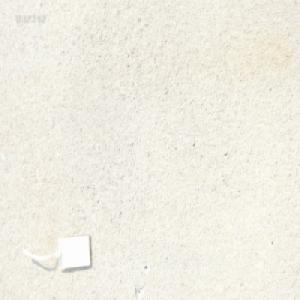LuggageTag: (19, 231, 93, 273)
